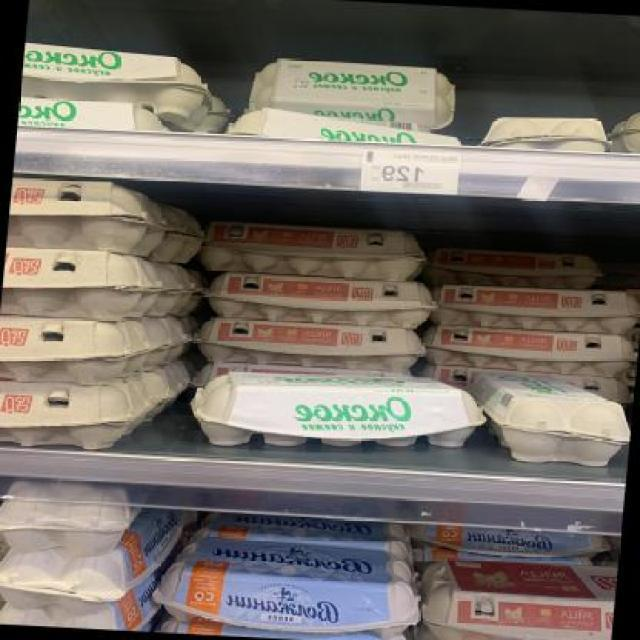Egg: (187, 366, 485, 460), (19, 41, 225, 123), (245, 51, 464, 127), (194, 219, 431, 279), (192, 316, 429, 374), (199, 270, 436, 328), (429, 322, 640, 379), (434, 280, 640, 338), (0, 477, 137, 554), (0, 543, 131, 619)
